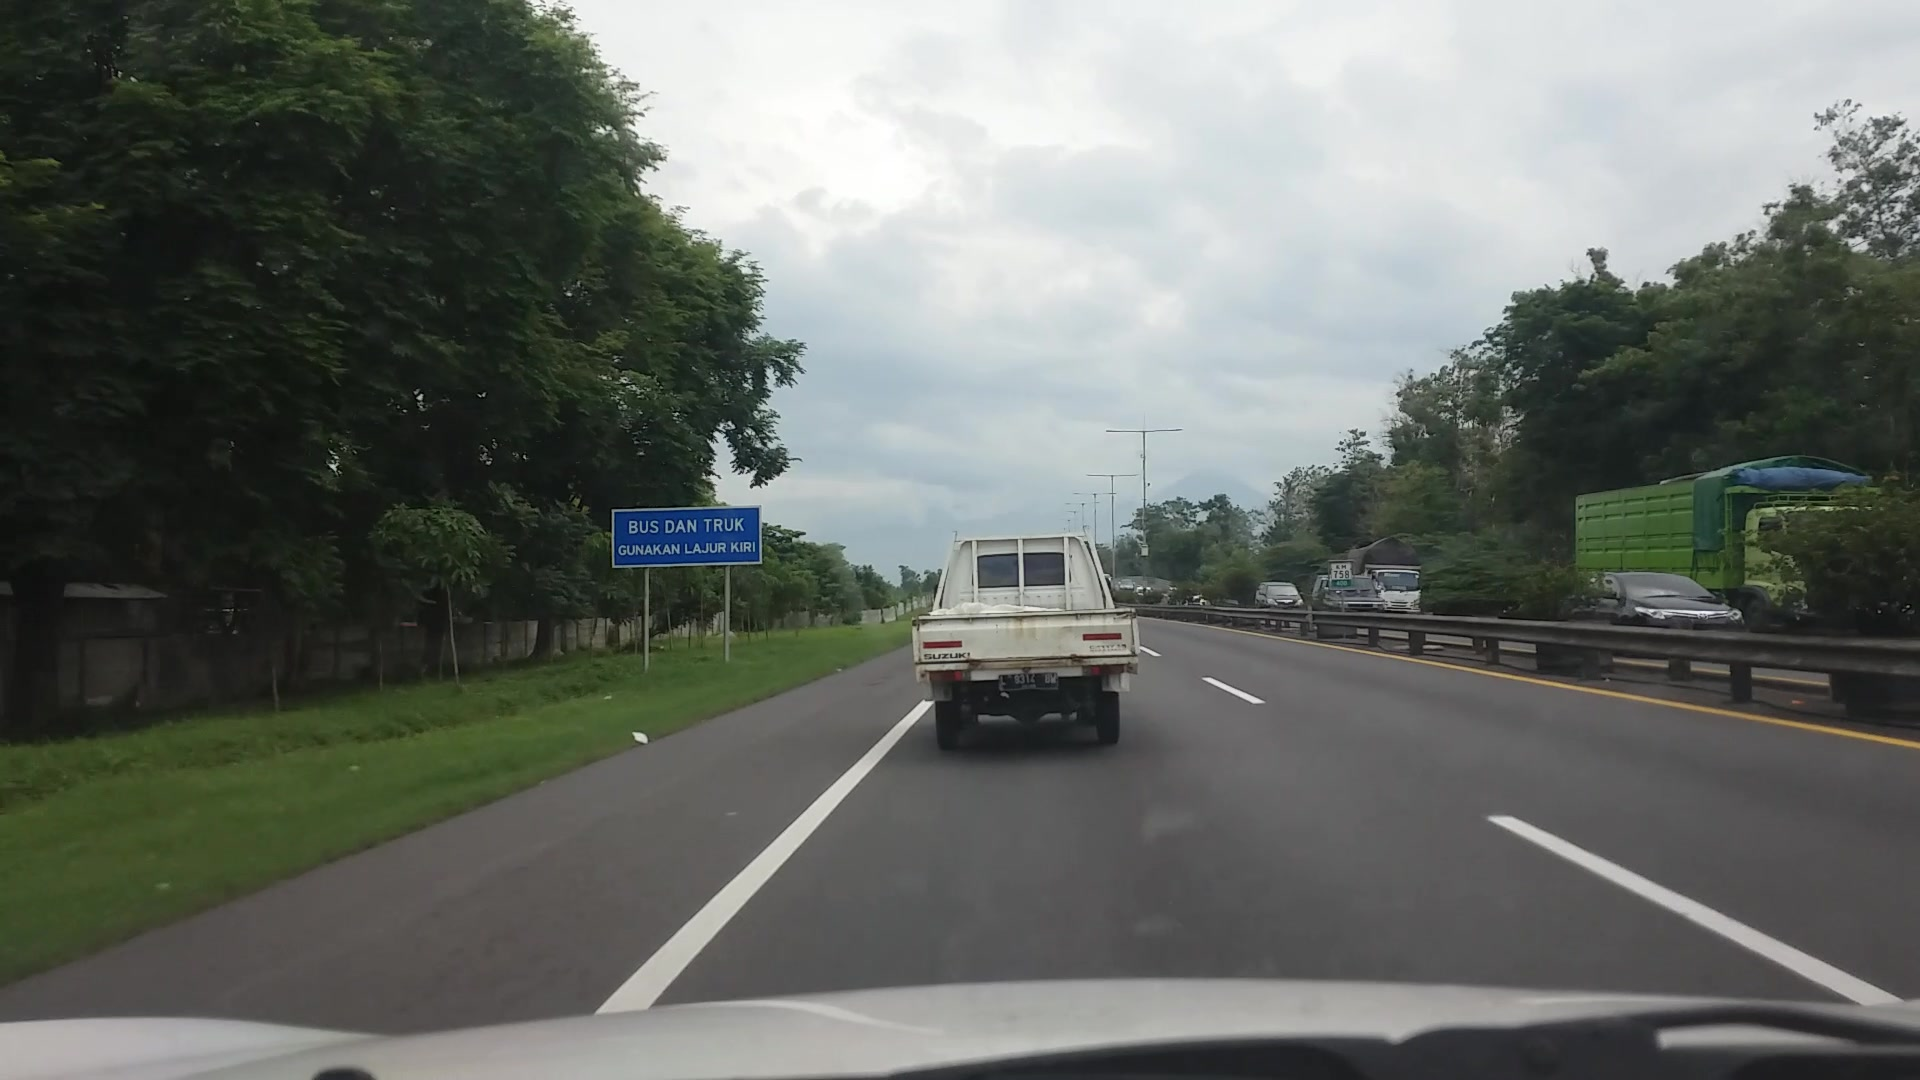plate_positive: (1000, 673, 1058, 690)
